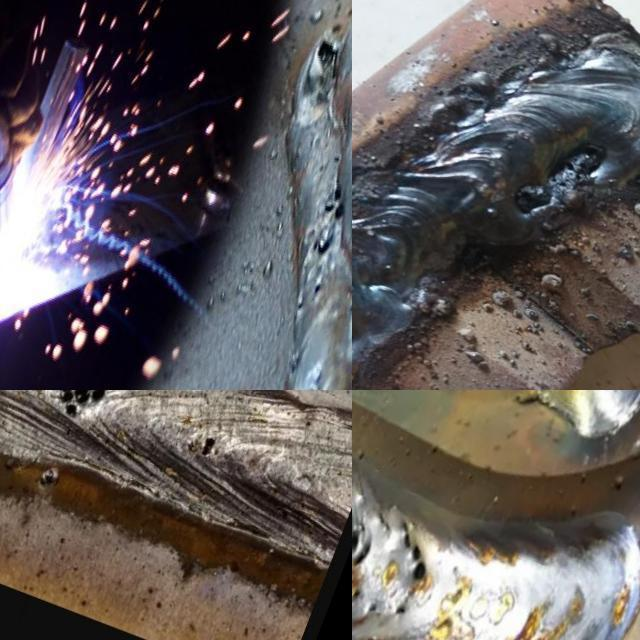defect: (513, 140, 607, 210), (391, 516, 433, 590), (305, 38, 342, 110), (50, 390, 113, 422), (322, 182, 347, 221), (311, 233, 335, 261), (198, 437, 223, 462), (392, 597, 410, 622), (289, 353, 303, 377), (366, 600, 378, 617), (320, 158, 329, 174), (352, 587, 361, 602), (314, 280, 322, 296), (334, 151, 342, 165), (298, 301, 303, 311), (349, 304, 352, 317)
